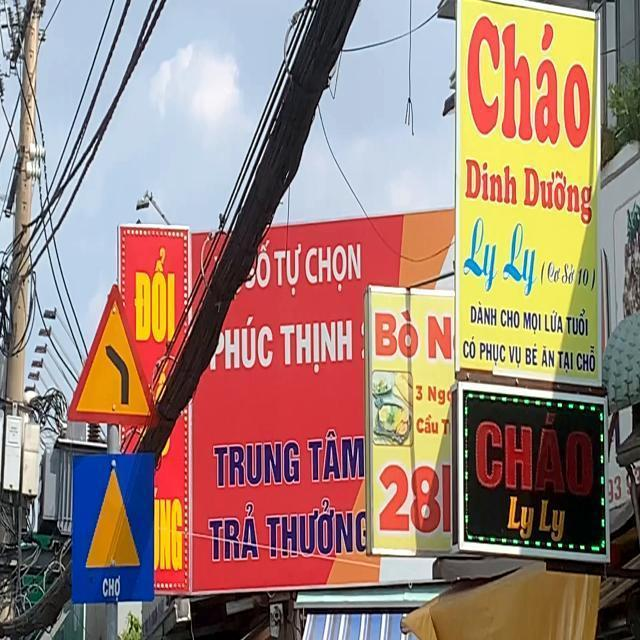201-cho-ngoat-nguy-hiem: (66, 282, 158, 434)
